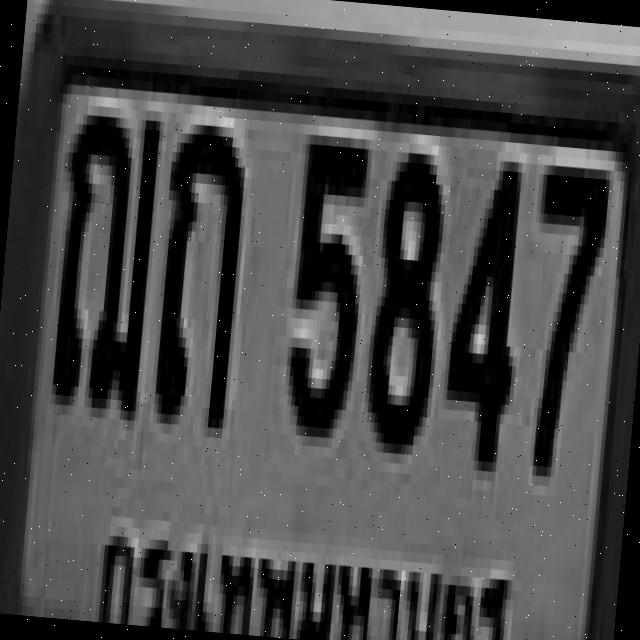21ChorChoe: (44, 99, 162, 406)
31ThorThung: (146, 112, 249, 418)
4: (438, 148, 526, 462)
5: (278, 124, 370, 429)
7: (514, 150, 608, 464)
8: (361, 141, 446, 445)
Bangkok: (86, 501, 523, 640)
